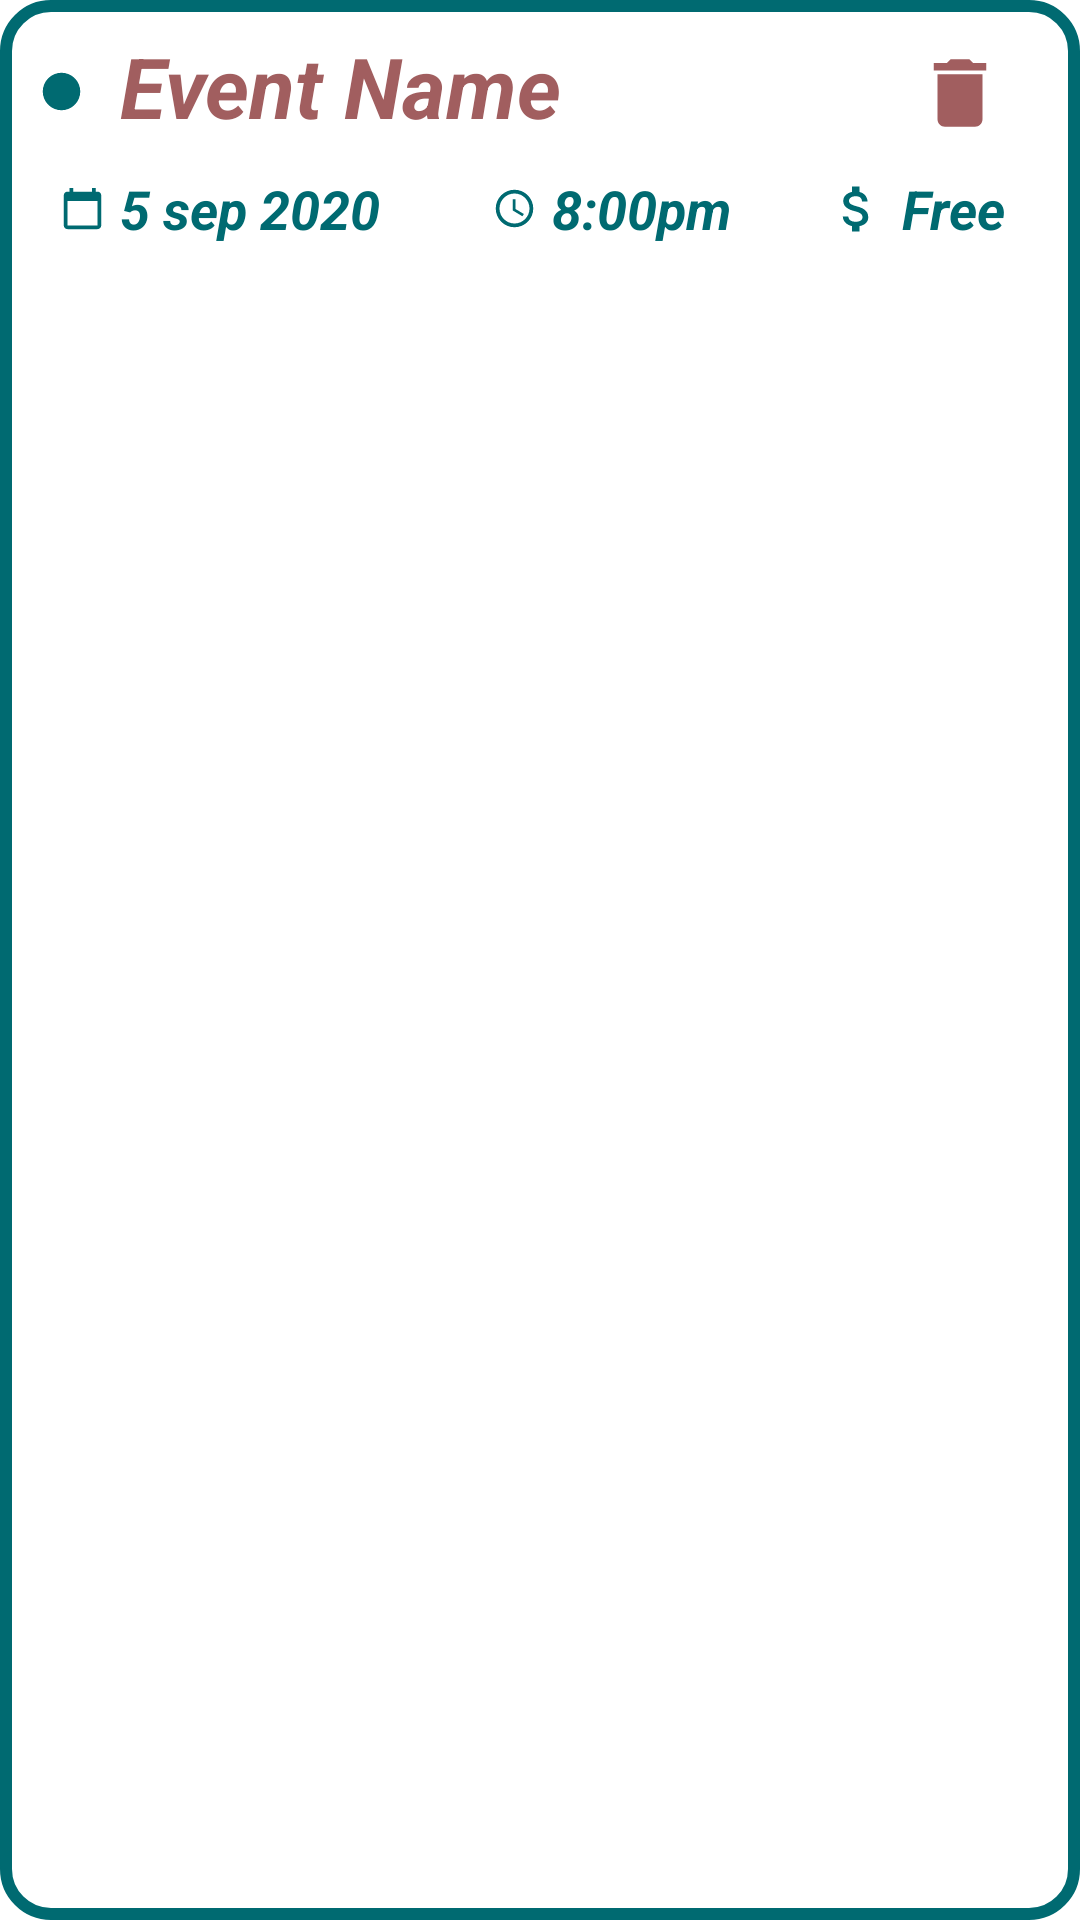

Named icons in this screenshot (1080 × 1920) and their bounding boxes, bbox(x1, y1, x2, y2):
access time: bbox(495, 189, 534, 228)
attach money: bbox(842, 186, 869, 232)
calendar today: bbox(63, 188, 102, 230)
delete: bbox(933, 59, 987, 127)
